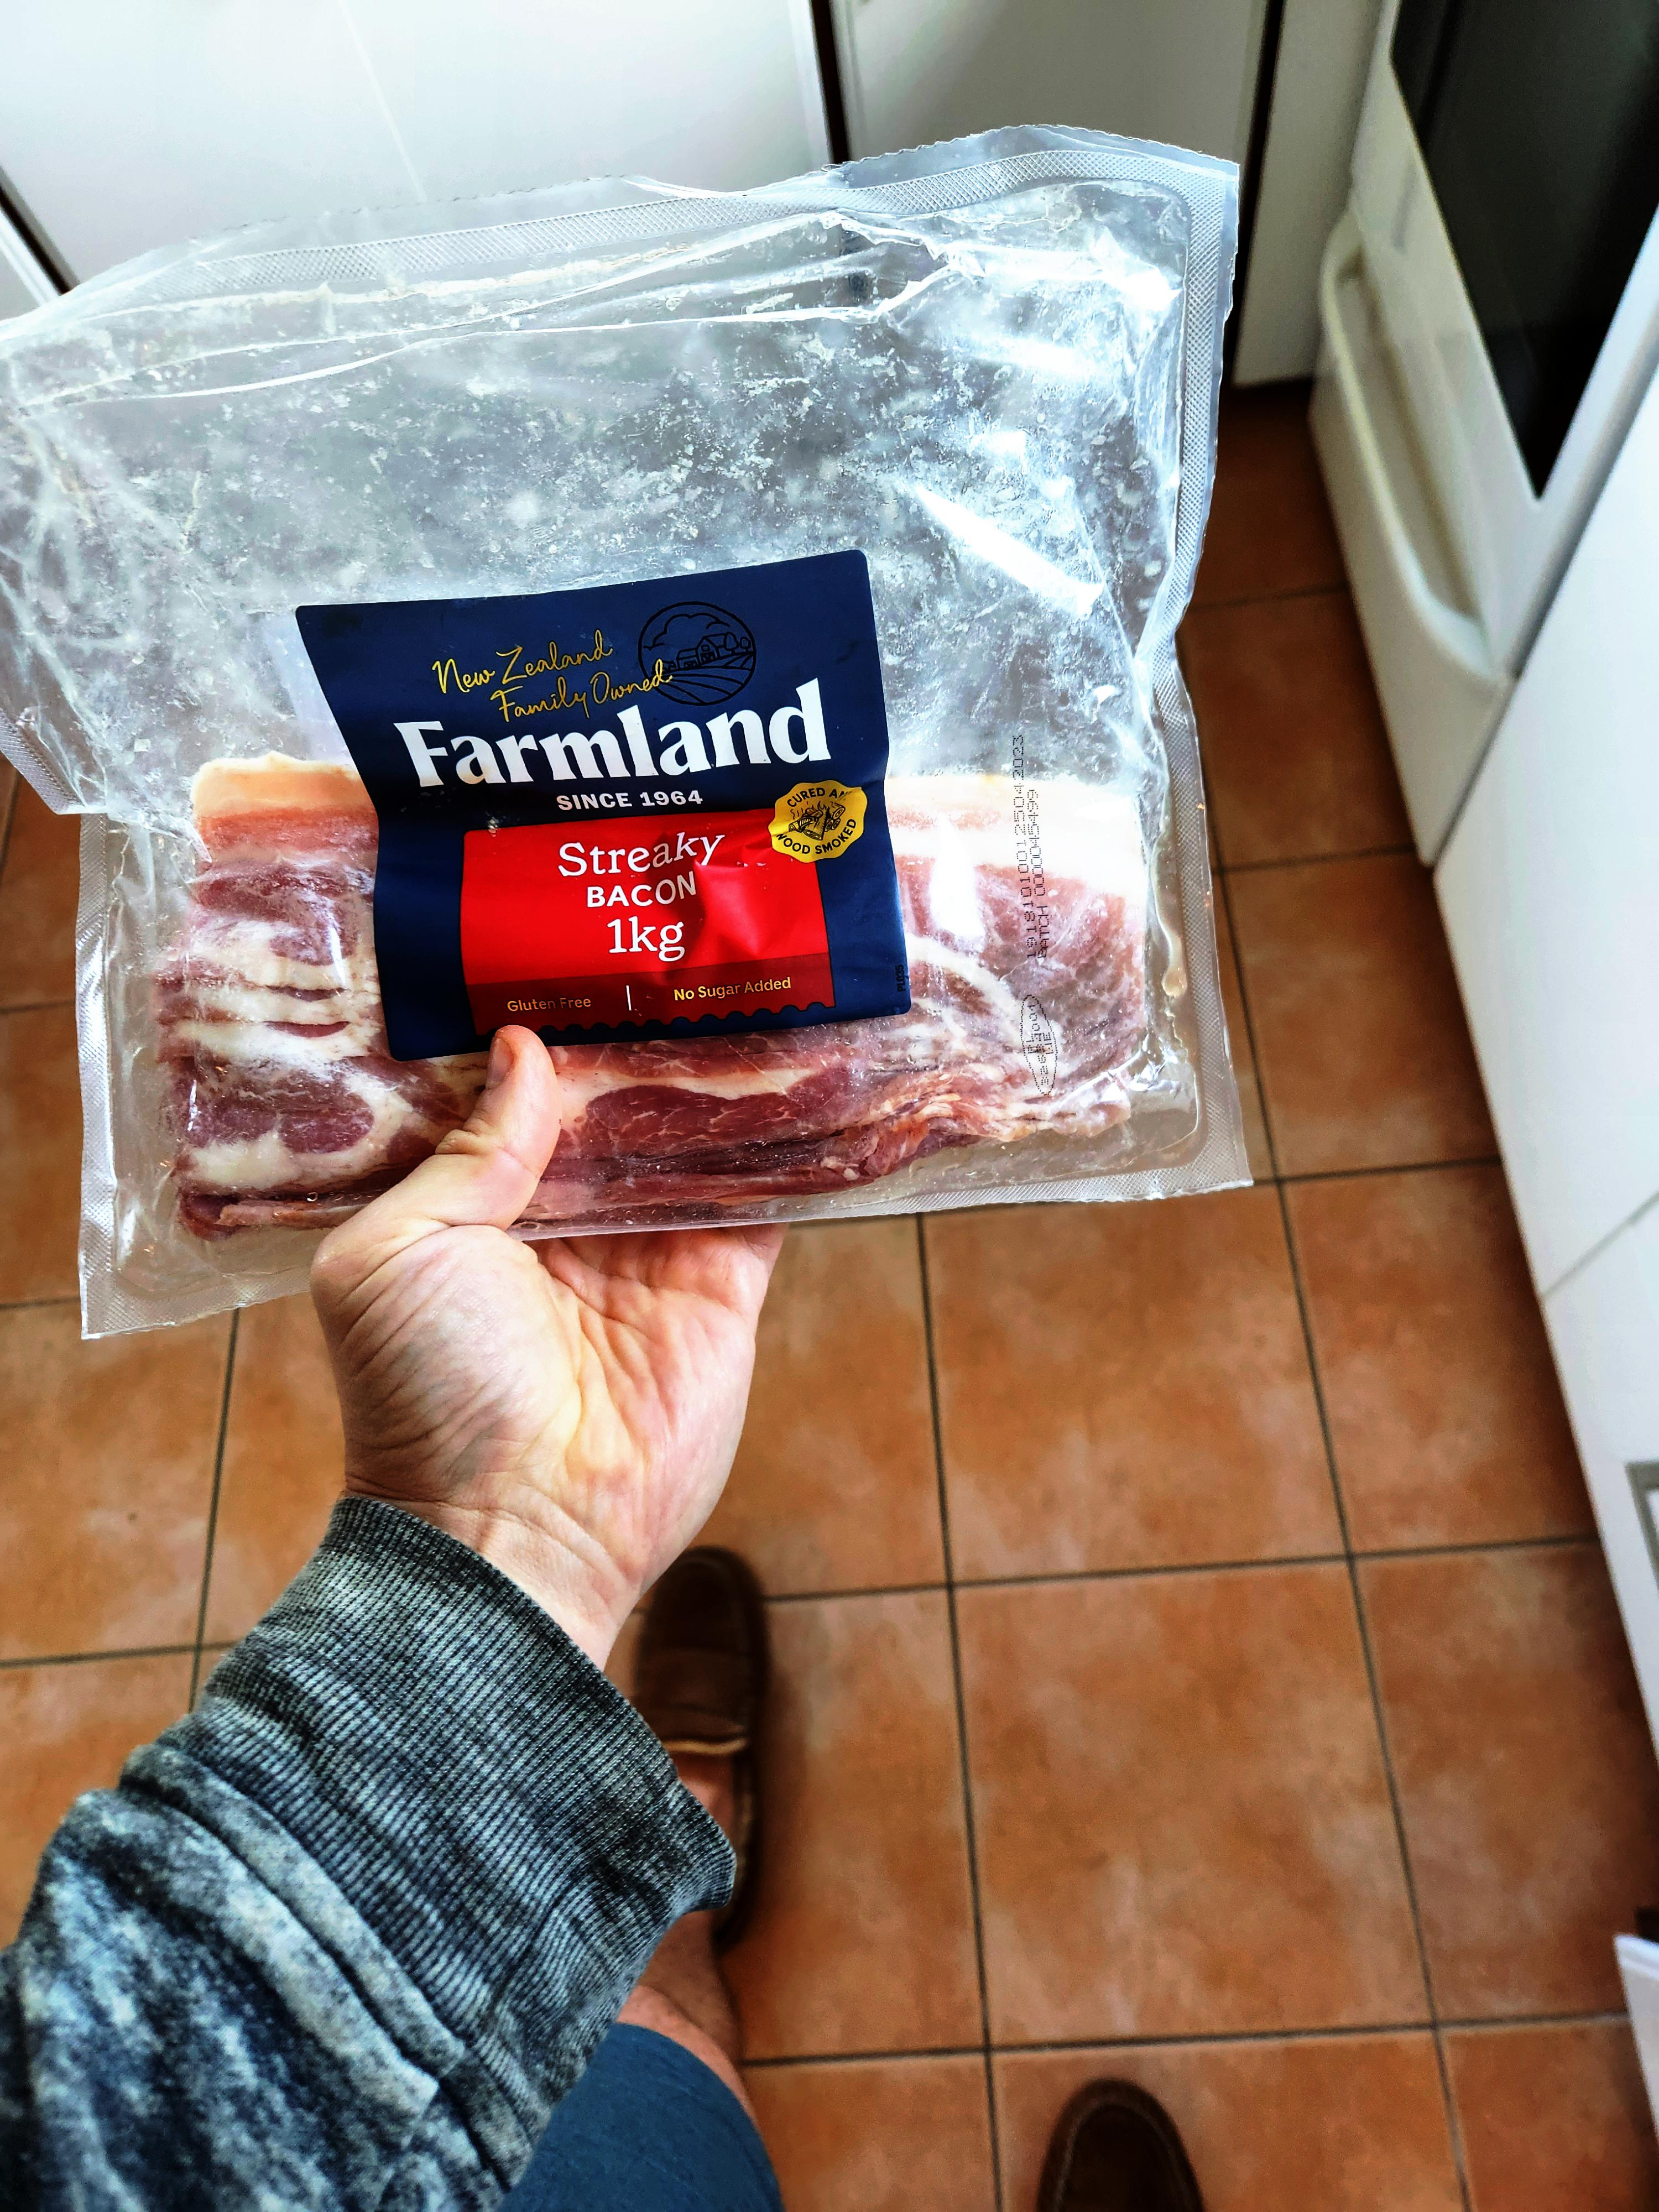bacon: (0, 185, 943, 1740)
